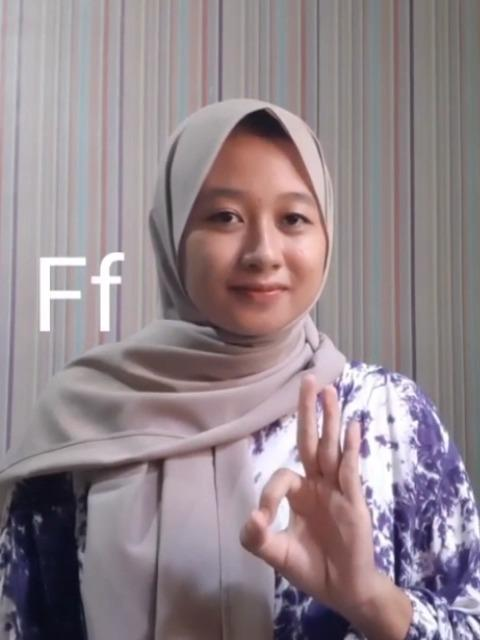F: (236, 370, 388, 606)
